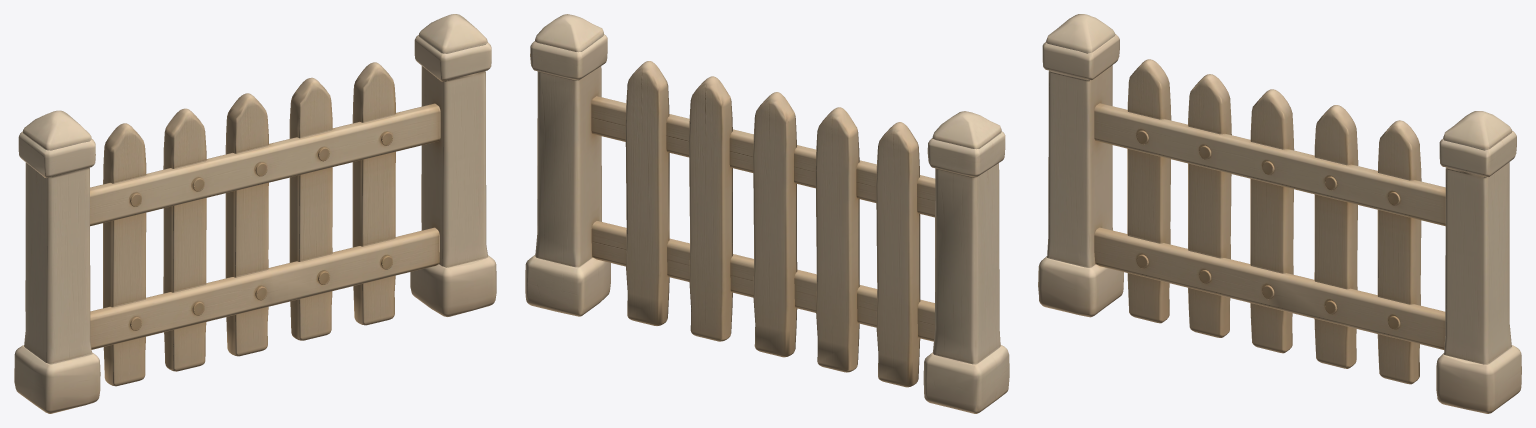
3 views of the same model, side by side, from view 1: azimuth 30°, elevation 25°; view 2: azimuth 150°, elevation 25°; view 3: azimuth 330°, elevation 25° (orthographic).
Parts seen in each view (by area): view 1: garden-fence; view 2: garden-fence; view 3: garden-fence.
Part boxes in pixels (x1,y1,x2,y2): garden-fence: [14, 14, 496, 413]; garden-fence: [525, 14, 1009, 413]; garden-fence: [1038, 14, 1521, 413].
Bounding box in the file's own units: 1.5 × 0.9001 × 0.2044.
1 material, 1 textured.
